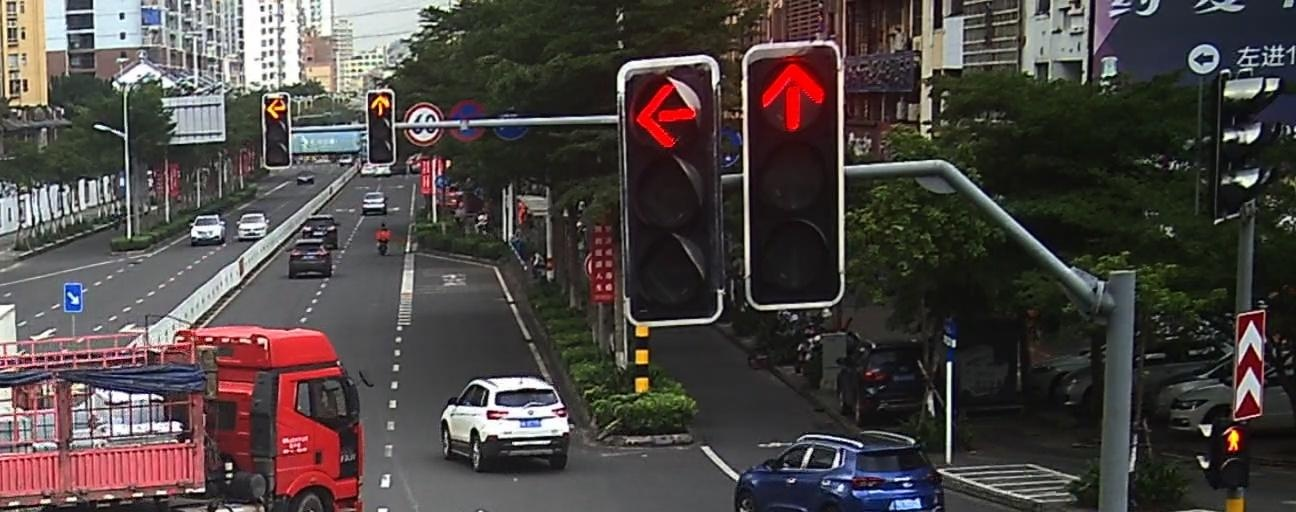redleft: (630, 80, 706, 153), (263, 96, 287, 122)
redpeople: (1221, 424, 1246, 454)
redstraight: (755, 59, 829, 134), (367, 93, 393, 118)
